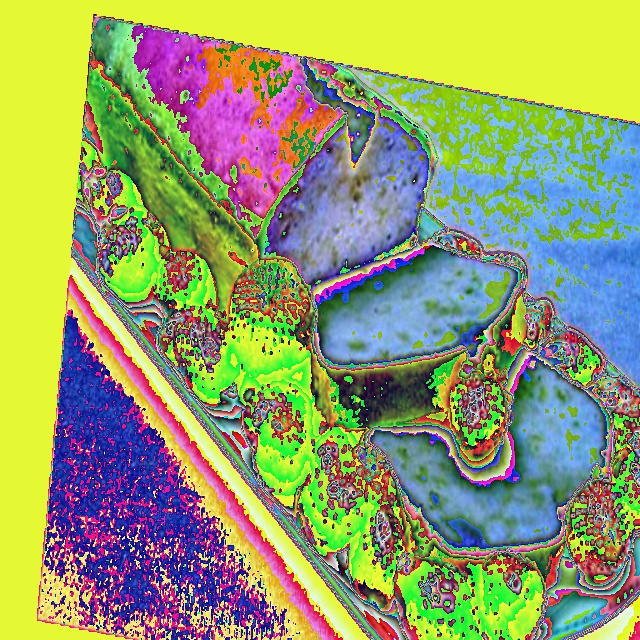background: (78, 17, 639, 639)
